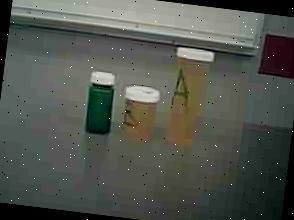Bottle A: (162, 42, 226, 154)
Bottle B: (116, 81, 164, 146)
Bottle C: (72, 65, 123, 141)
